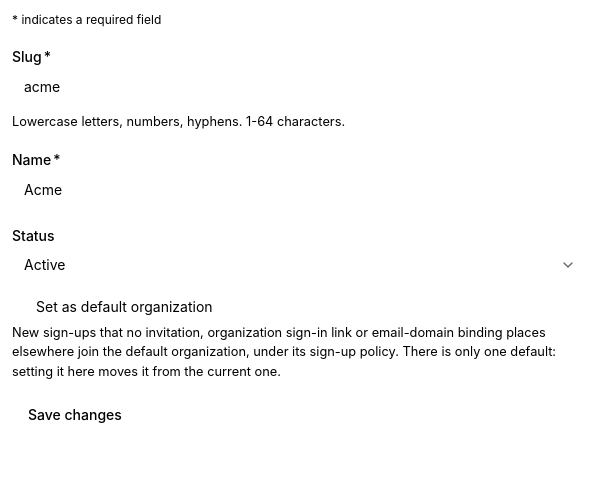
Test case: OrganizationSettingsForm › F-09: a 409 last_superadmin (suspending the org holding the last superuser grant) is a root error, not a slug error
Type " Corp" into the field labelled "Name" at point(300, 189), box [12, 171, 588, 207]
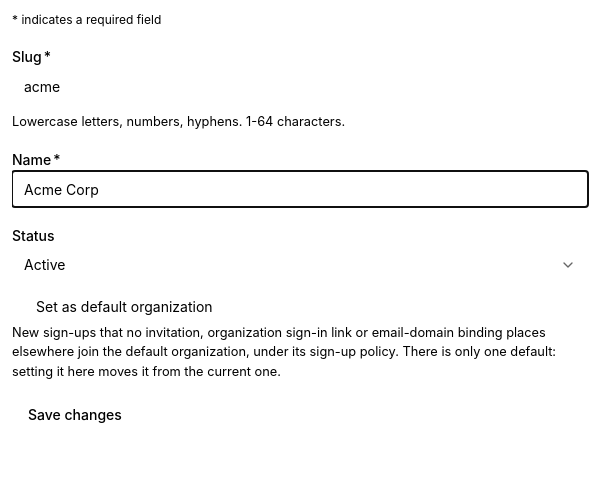
Click the button "Save changes" at point(75, 415), box [12, 397, 138, 433]
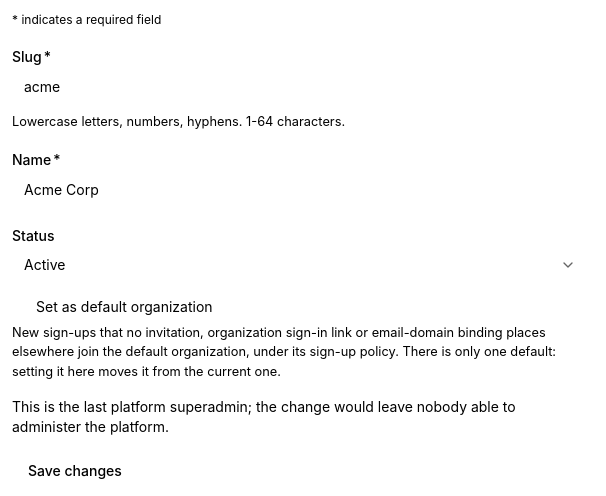
Result: the message shows "This is the last platform superadmin" at [12, 398, 516, 435]
